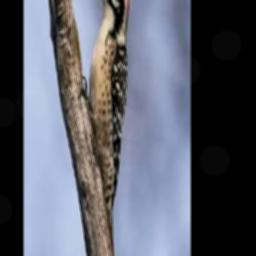Woodpecker: (79, 0, 131, 248)
